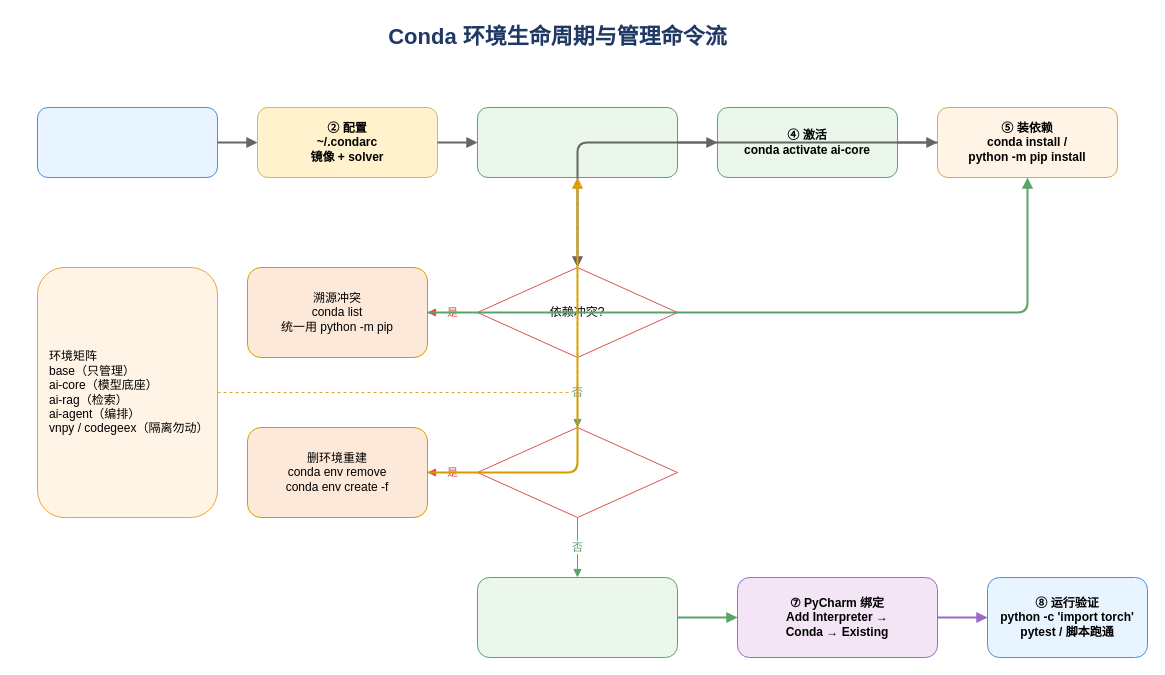
Image size: 1165x675. Some labels were removed from this diagram. Each missing label, with the centre of its shape:
"① 初始化 conda init zsh exec zsh" goes at pixel 127 142.
"③ 创建环境 conda create -n ai-core python=3.11 -y" goes at pixel 577 142.
"⑥ 导出固化 conda env export --from-history > environment.yml" goes at pixel 577 617.
"环境已损坏?" goes at pixel 577 472.
